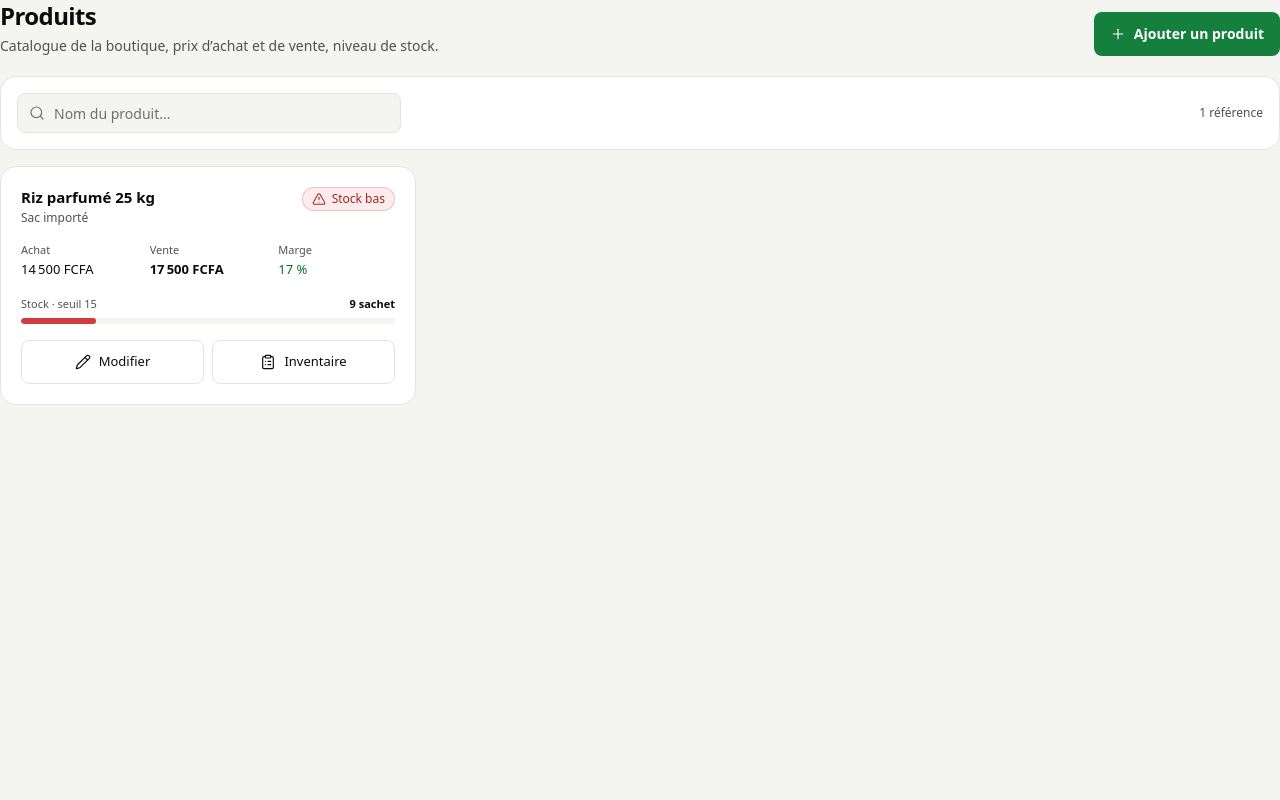
Test case: accessibilité de l'écran Produits › ne présente aucune infraction, modification ouverte
The width and height of the screenshot is (1280, 800).
Expected: the heading "Riz parfumé 25 kg" is shown, [21,187,155,208]
Click the button with aria-label "modifier riz". click: click(112, 362)
box: [21,340,204,384]
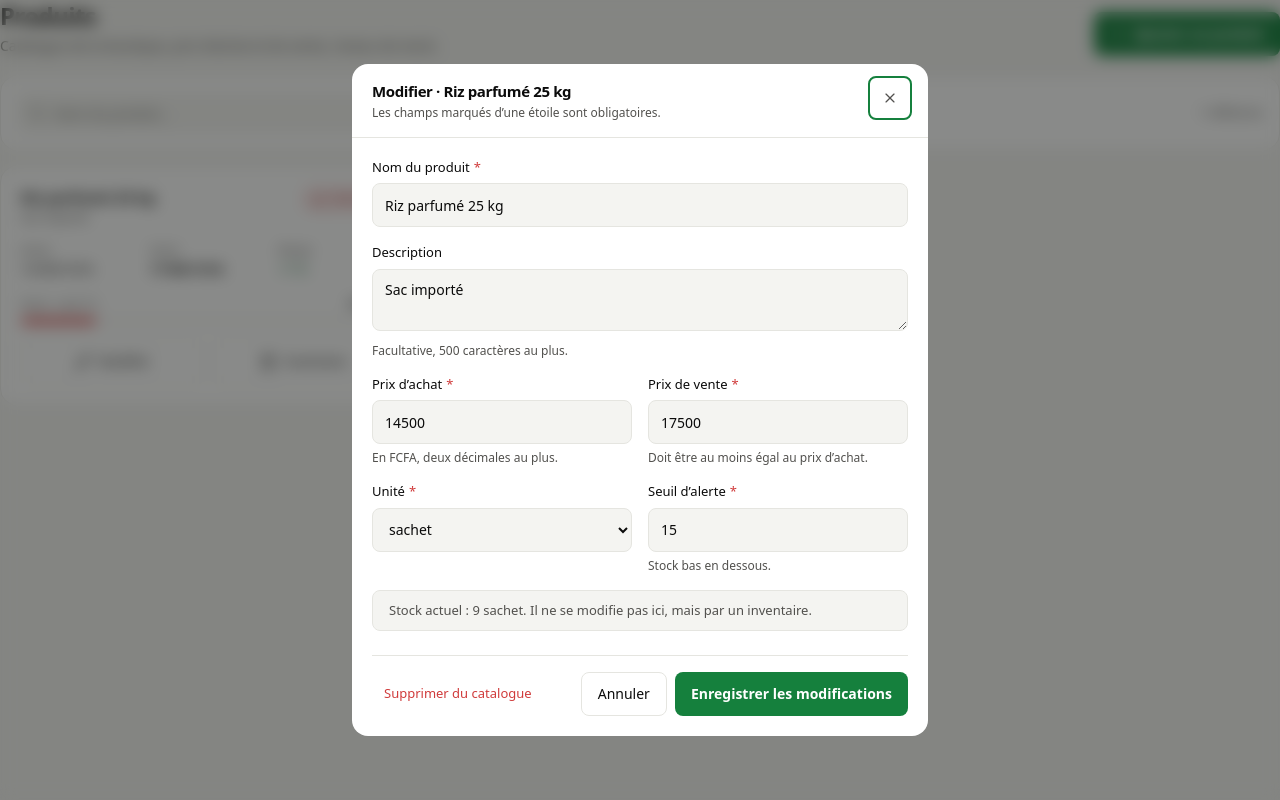
Now the dialog is shown, box [352,64,928,736]
